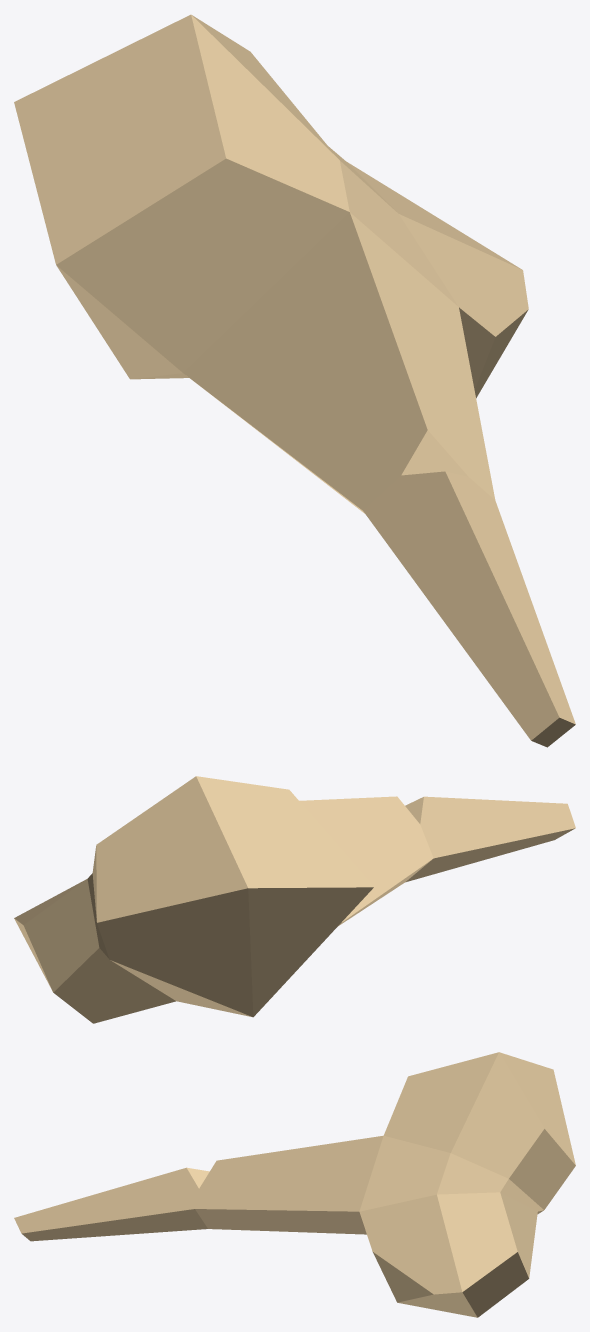
Rendered from Bone_2__0.glb.
3 views of the same model, one above another, from view 1: azimuth 30°, elevation 25°; view 2: azimuth 150°, elevation 25°; view 3: azimuth 270°, elevation 25° (orthographic). The views are drawn at different scales.
Visible parts, largest first — view 1: Bone_2__0; view 2: Bone_2__0; view 3: Bone_2__0.
Part boxes in pixels (x1=…): Bone_2__0: x1=14, y1=14, x2=575, y2=747; Bone_2__0: x1=14, y1=776, x2=575, y2=1023; Bone_2__0: x1=14, y1=1052, x2=575, y2=1317.
Bounding box in the file's own units: 0.165 × 0.1321 × 0.3037.
Materials: 1 (1 with a texture image).
